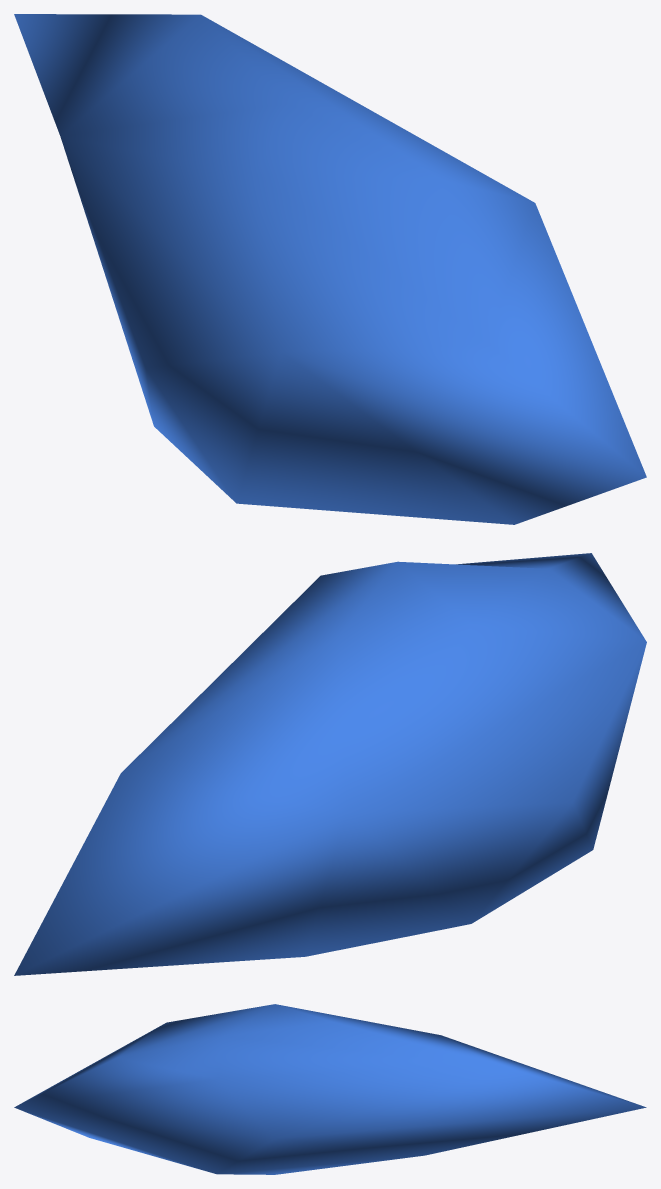
The model's file is Patr tower 5.fbx.
3 views of the same model, one above another, from view 1: azimuth 30°, elevation 25°; view 2: azimuth 150°, elevation 25°; view 3: azimuth 270°, elevation 25° (orthographic). The views are drawn at different scales.
Parts seen in each view (by area): view 1: Patr tower 5; view 2: Patr tower 5; view 3: Patr tower 5.
Part boxes in pixels (box(x1,y1,x2,y2)): Patr tower 5: box(14, 14, 646, 524); Patr tower 5: box(14, 553, 646, 975); Patr tower 5: box(14, 1004, 646, 1174).
Bounding box in the file's own units: 0.2444 × 0.7302 × 0.1819.
